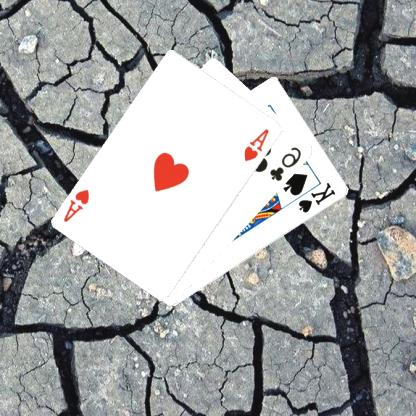6C: (269, 144, 305, 183)
AH: (62, 186, 94, 224), (243, 126, 273, 163)
KS: (298, 180, 340, 214)
